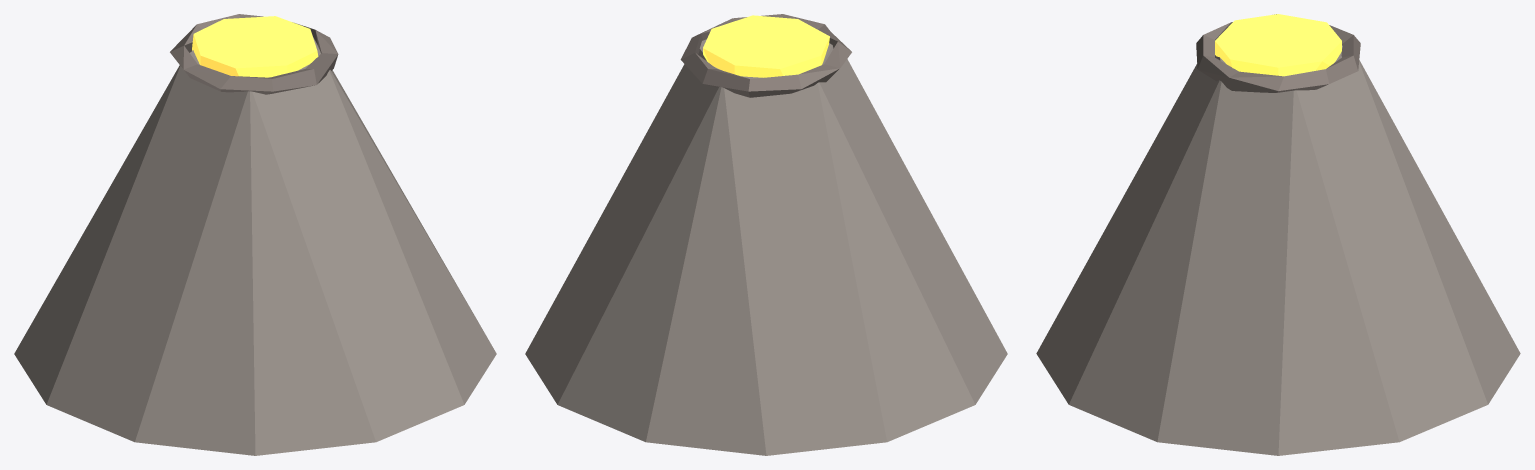
File: 27-Islas-Ubicaciones_volcan.glb
3 renders of one model, left to right at view 1: azimuth 30°, elevation 25°; view 2: azimuth 150°, elevation 25°; view 3: azimuth 270°, elevation 25°, orthographic.
Visible parts, largest first — view 1: SM_Volcan_M_Volcan_Roca, SM_Volcan_M_Volcan_Lava, SM_Volcan_M_Volcan_Roca_Osc; view 2: SM_Volcan_M_Volcan_Roca, SM_Volcan_M_Volcan_Lava, SM_Volcan_M_Volcan_Roca_Osc; view 3: SM_Volcan_M_Volcan_Roca, SM_Volcan_M_Volcan_Lava, SM_Volcan_M_Volcan_Roca_Osc.
Boxes of the visible parts, x1,y1,x2,y2 form: SM_Volcan_M_Volcan_Roca: (14, 37, 496, 455); SM_Volcan_M_Volcan_Lava: (192, 16, 318, 77); SM_Volcan_M_Volcan_Roca_Osc: (170, 14, 338, 94); SM_Volcan_M_Volcan_Roca: (525, 39, 1007, 455); SM_Volcan_M_Volcan_Lava: (703, 15, 829, 77); SM_Volcan_M_Volcan_Roca_Osc: (680, 14, 851, 97); SM_Volcan_M_Volcan_Roca: (1036, 45, 1520, 455); SM_Volcan_M_Volcan_Lava: (1215, 14, 1341, 76); SM_Volcan_M_Volcan_Roca_Osc: (1196, 14, 1360, 92).
Bounding box in the file's own units: 8 × 5.7 × 8.
